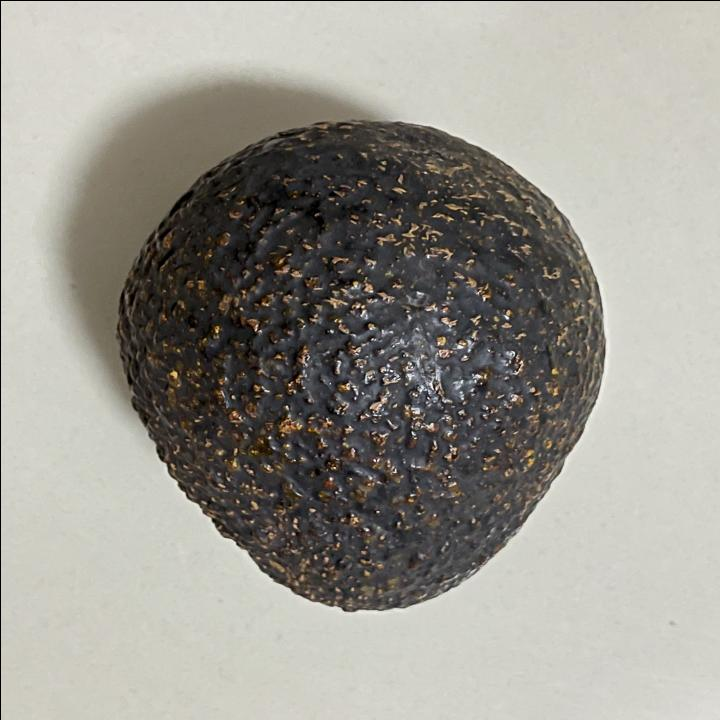Level2: (110, 114, 614, 615)
